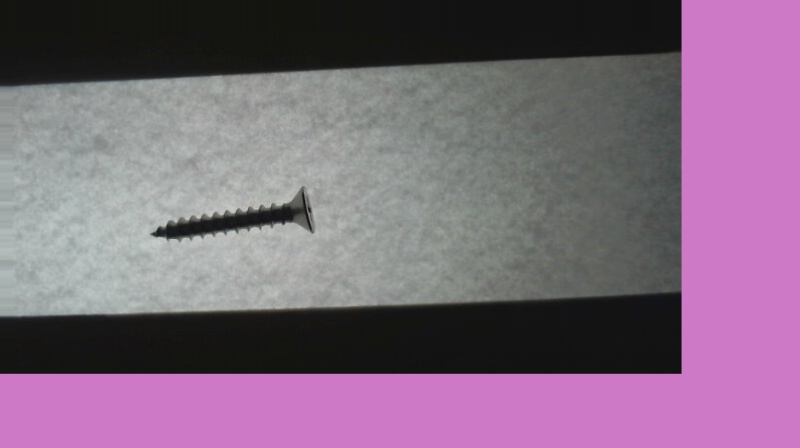S001: (149, 184, 319, 242)
